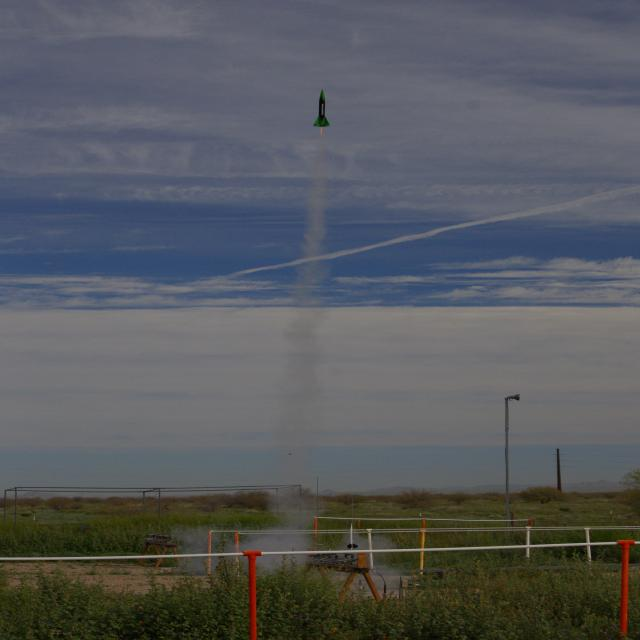Rocket: (313, 89, 330, 127), (348, 522, 358, 550)
